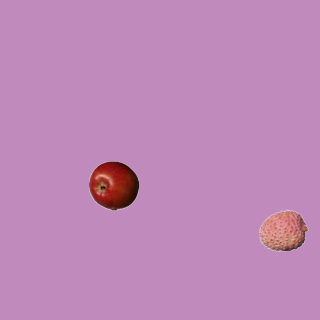Apple Braeburn: (88, 160, 138, 210)
Lychee: (258, 205, 308, 255)
